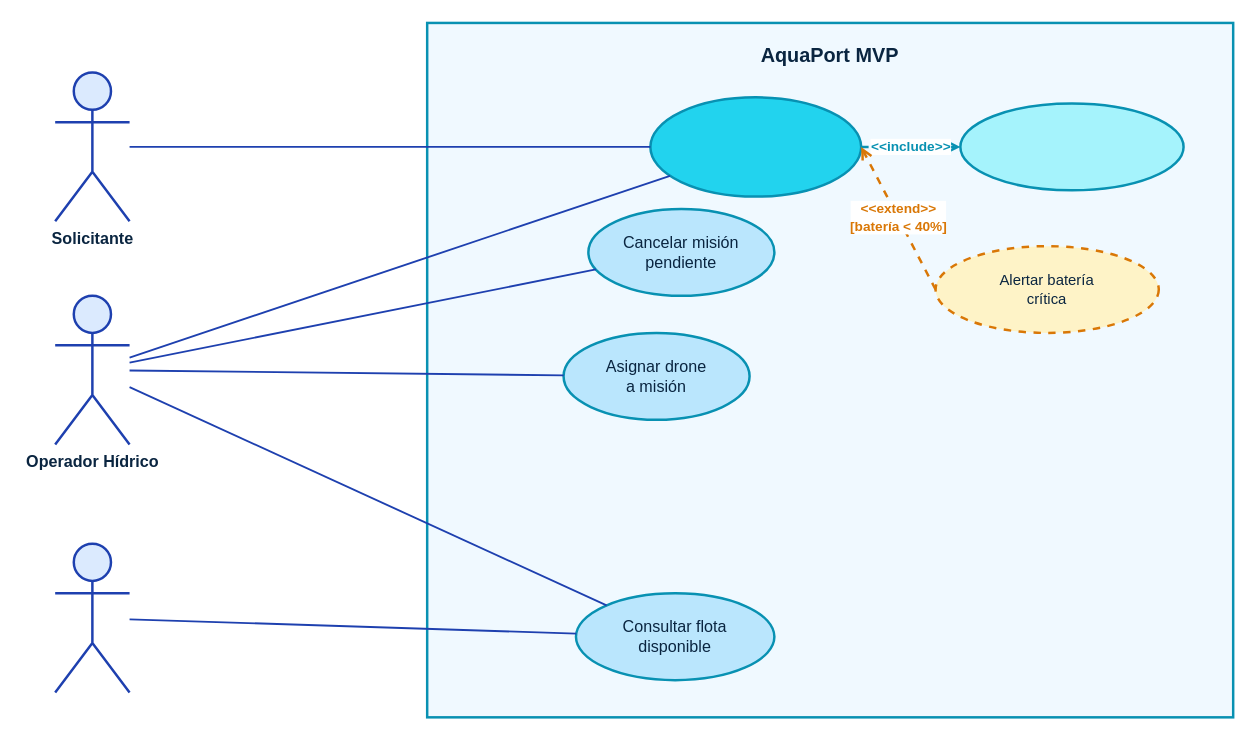
Image size: 1256x742. Some labels were removed from this diagram. The box of each missing label's shape, as (x1, y1, x2, y2) in pixels:
Administrador ECI: (53, 542, 130, 693)
Registrar misión de transporte: (649, 95, 862, 197)
Validar disponibilidad del drone: (959, 102, 1184, 191)
